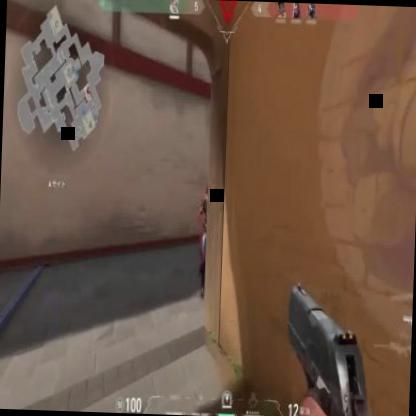enemy: (194, 178, 222, 296)
enemy_head: (204, 180, 216, 202)
